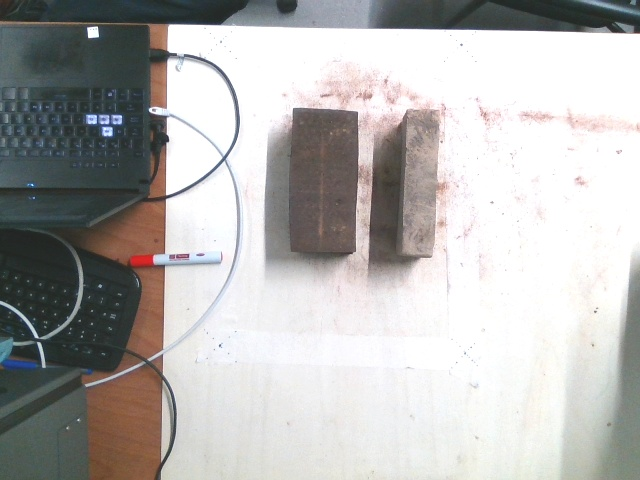brick: (291, 108, 359, 250)
brick-side: (405, 109, 437, 253)
